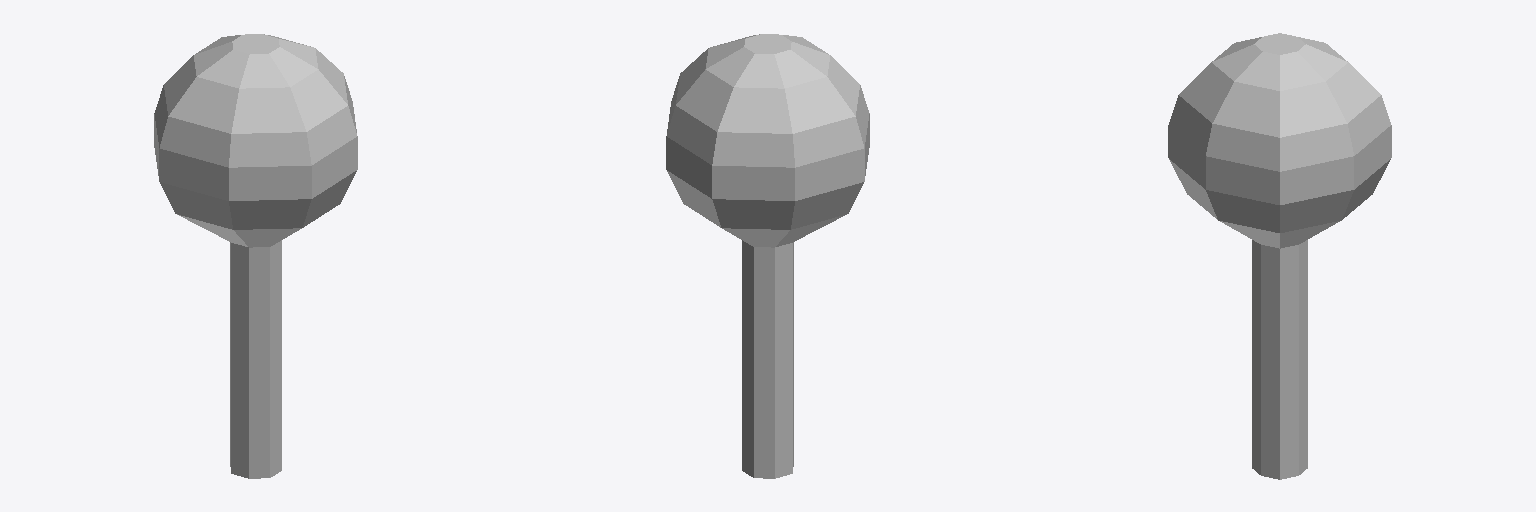
The model's file is tree.obj.
3 views of the same model, side by side, from view 1: azimuth 30°, elevation 25°; view 2: azimuth 150°, elevation 25°; view 3: azimuth 270°, elevation 25° (orthographic).
Parts seen in each view (by area): view 1: Cube_Cube.001; view 2: Cube_Cube.001; view 3: Cube_Cube.001.
Part boxes in pixels (x1,y1,x2,y2): Cube_Cube.001: (154, 34, 357, 478); Cube_Cube.001: (666, 34, 869, 478); Cube_Cube.001: (1168, 33, 1391, 479).
Size of the model in its own units: 11.81 by 24.74 by 11.81.